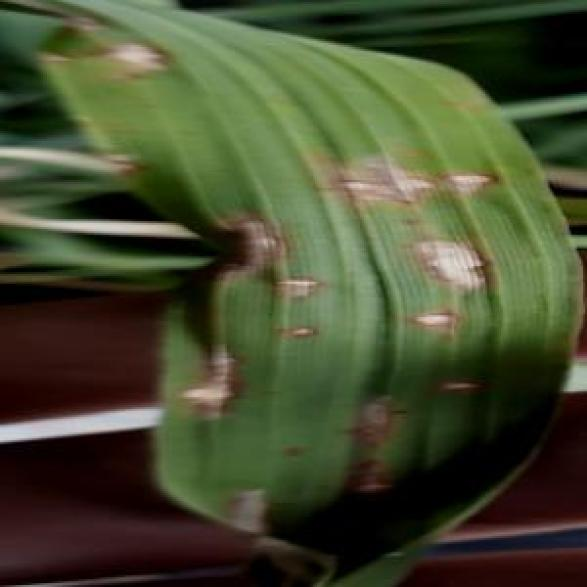Leaf_smut: (313, 131, 497, 215), (393, 219, 530, 307), (180, 196, 290, 299), (172, 327, 251, 415), (88, 27, 168, 100), (92, 131, 172, 194), (209, 470, 280, 526), (258, 304, 331, 350), (274, 262, 323, 302)
